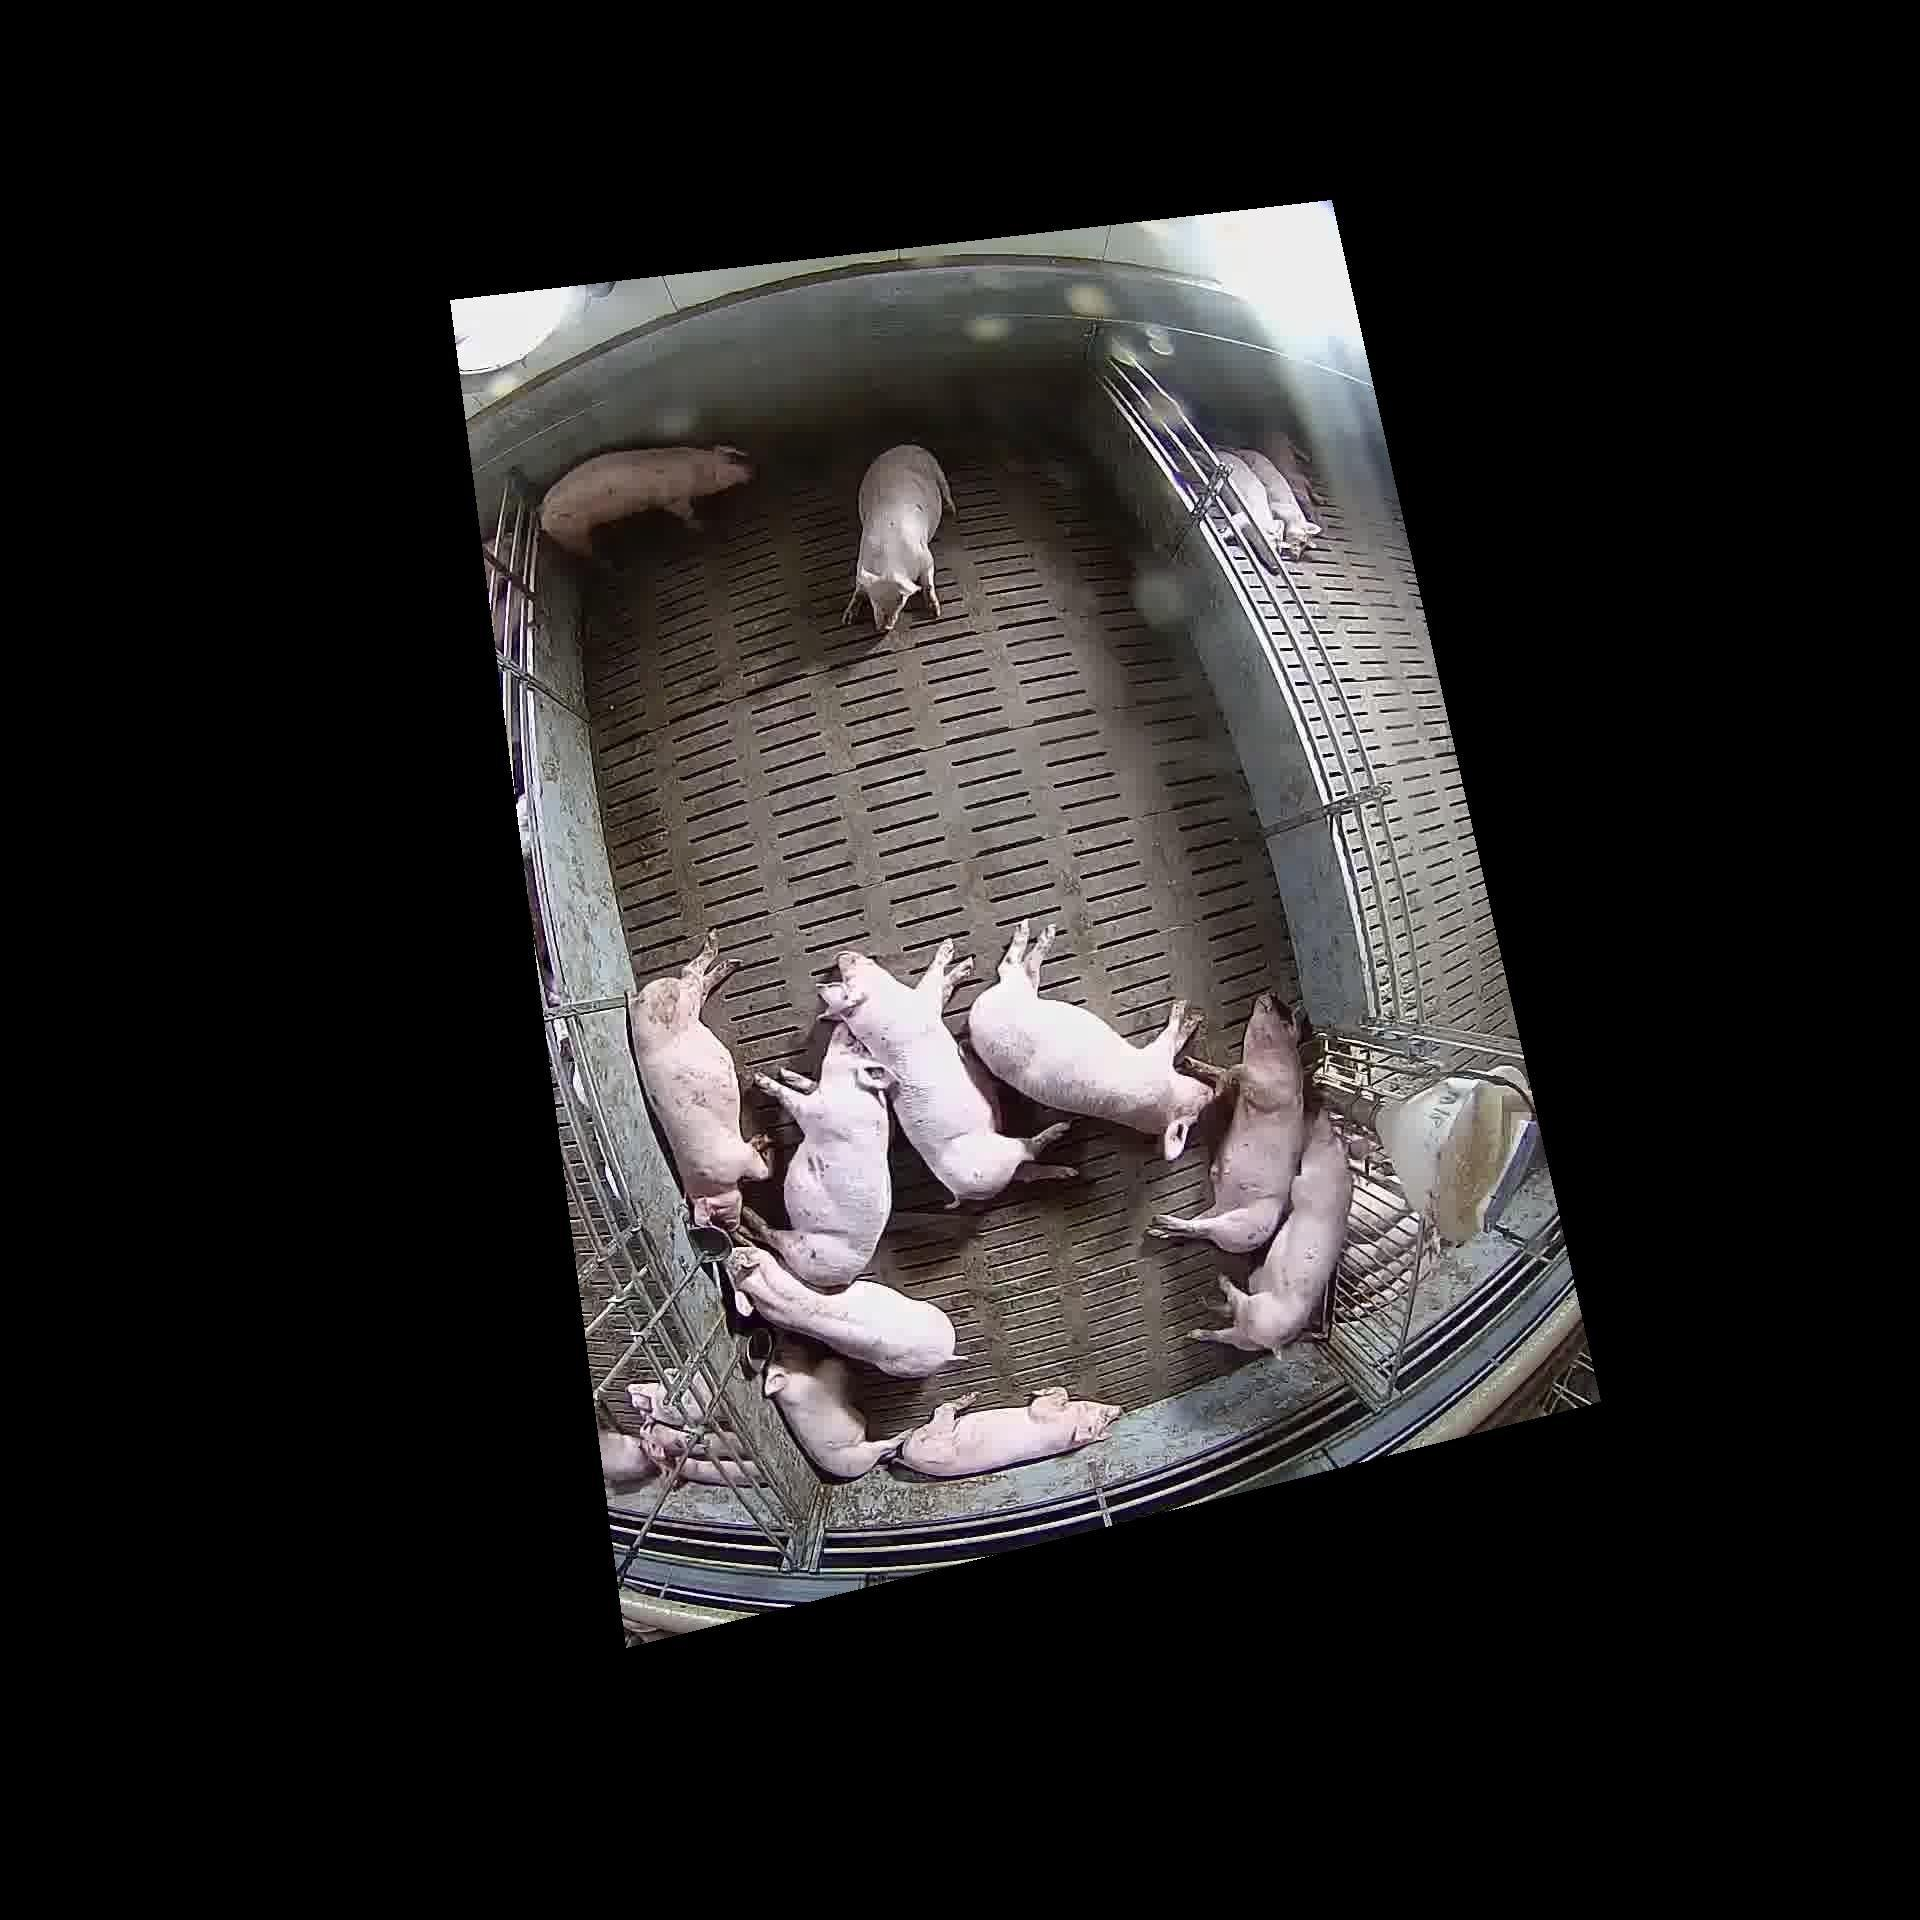pig: (816, 937, 1080, 1210), (969, 920, 1218, 1155), (624, 927, 772, 1231), (738, 1023, 898, 1287), (1185, 1113, 1363, 1350), (1145, 992, 1303, 1252), (723, 1233, 969, 1377), (542, 447, 756, 570), (842, 445, 956, 629), (893, 1385, 1124, 1475), (765, 1354, 916, 1475)
